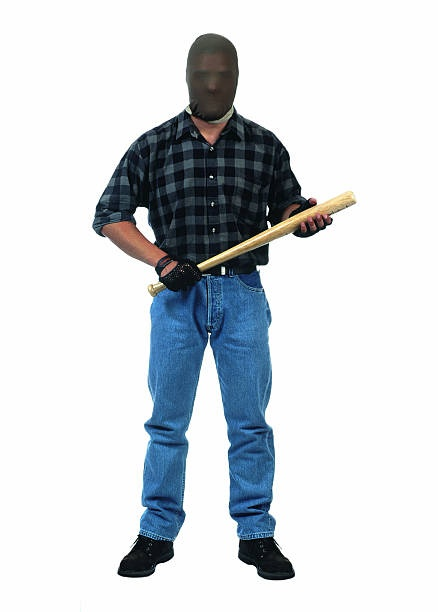bita: (141, 186, 350, 300)
